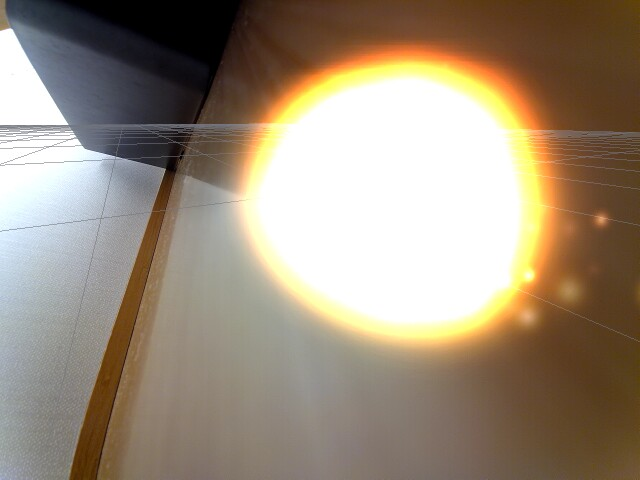fire: (241, 60, 550, 341)
